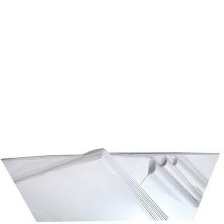tissue: (0, 148, 224, 223), (10, 145, 172, 224)
